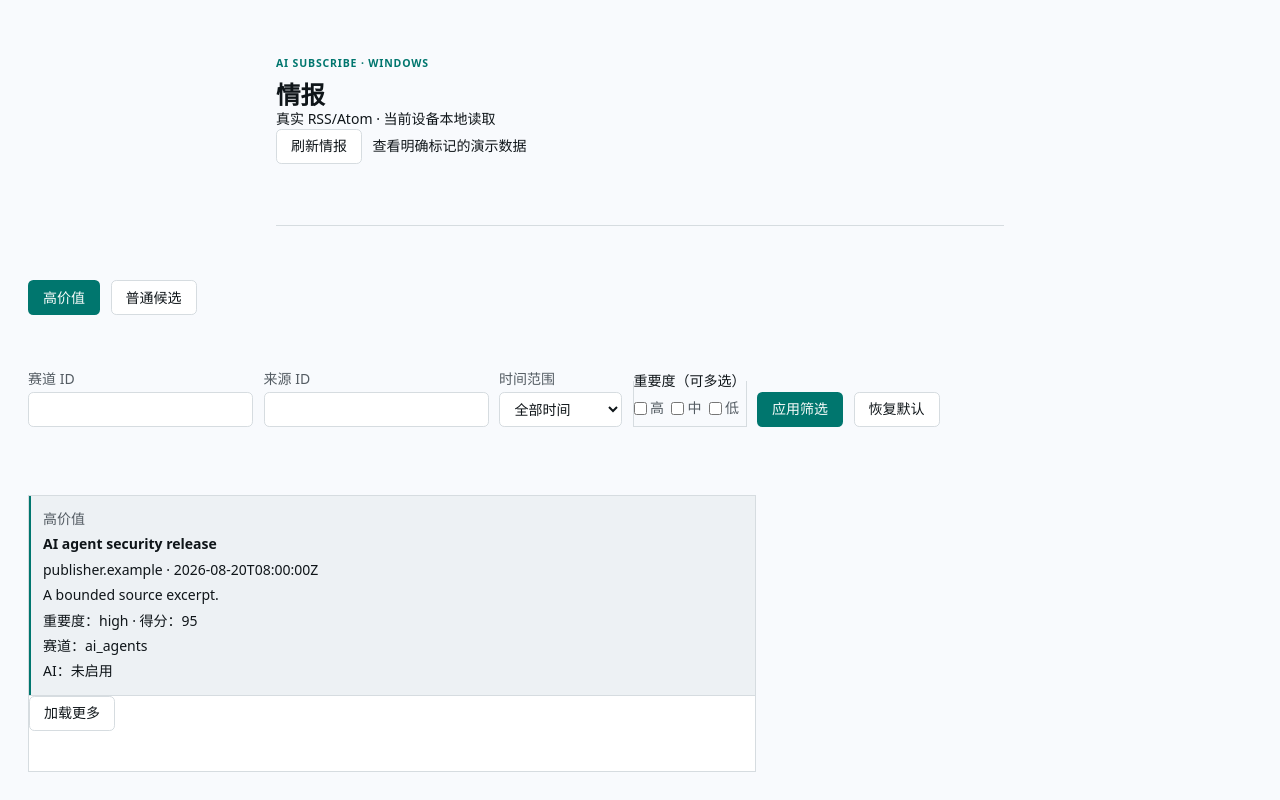
Test: IntelFeed › 下一页失败保留已有内容并提供局部重试
This screenshot has width=1280, height=800.
Check: the text "AI agent security release" is shown, box [43,534,217,553]
Click the button "加载更多". click: (72, 713)
box: [29,696,115,731]
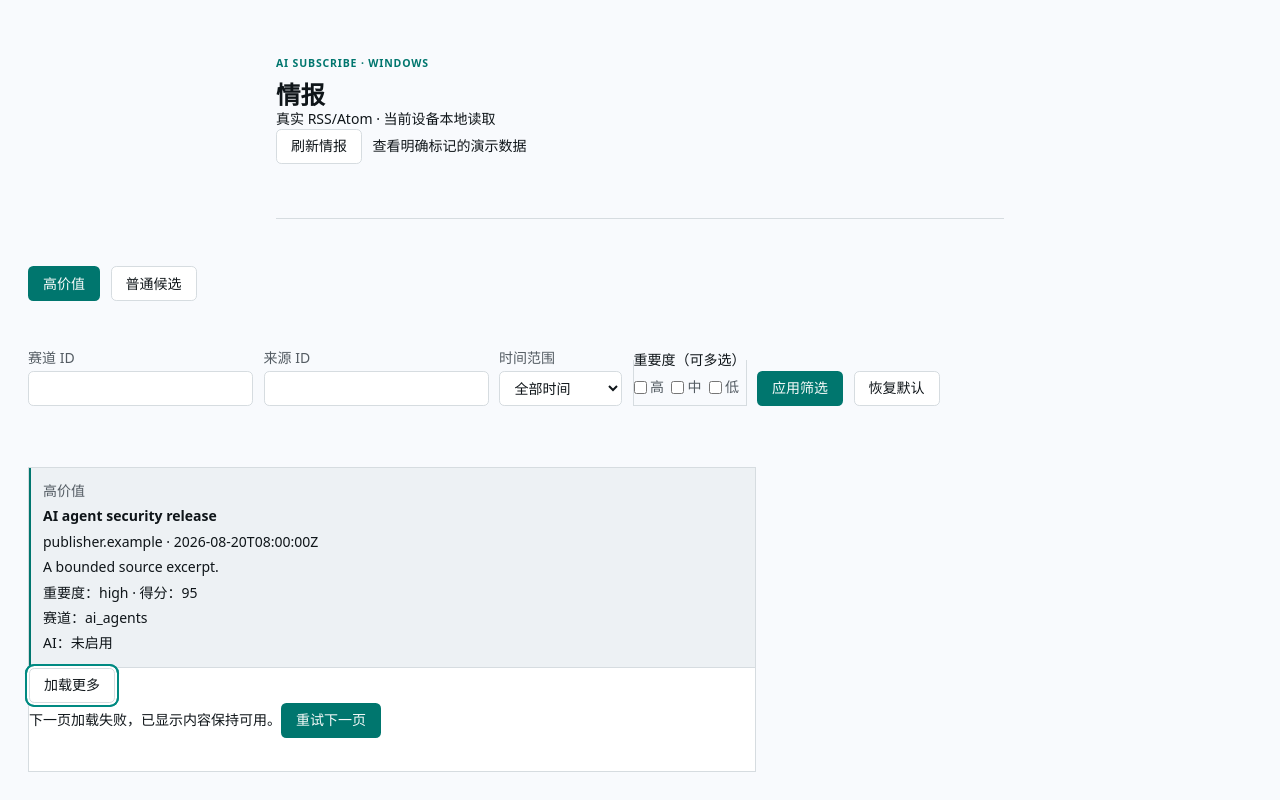
Check: the text "AI agent security release" is shown, box [43,506,217,525]
Check: the text "下一页加载失败，已显示内容保持可用。 重试下一页" is shown, box [29,703,381,738]
Check: the button "重试下一页" is shown, box [281,703,381,738]
